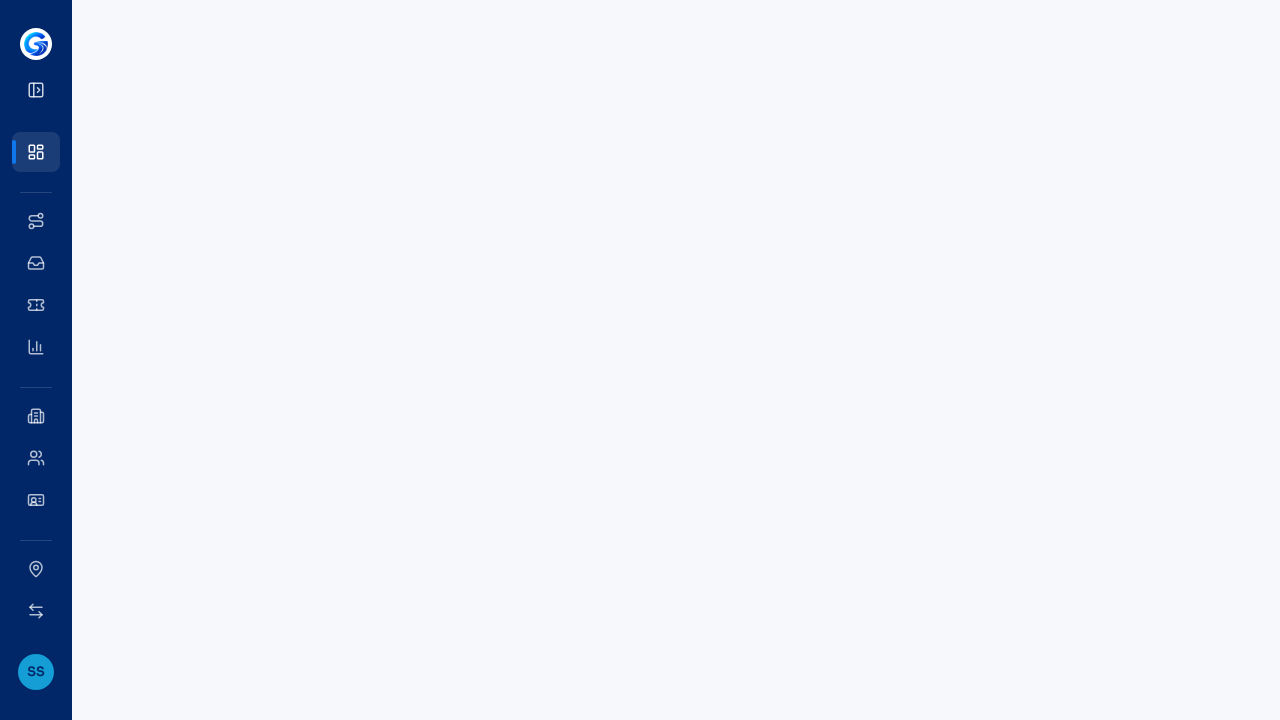
PortalShell: collapsing the sidebar › opens the account from the initials: name, role and Sign out
Later steps or results of the test are not shown.
Check: the text "SS" is shown, box [18,654,54,690]
Check: the text "Selam Staff" is not shown
Hover over the button named "Your account" at (36, 672), box [12,648,60,696]
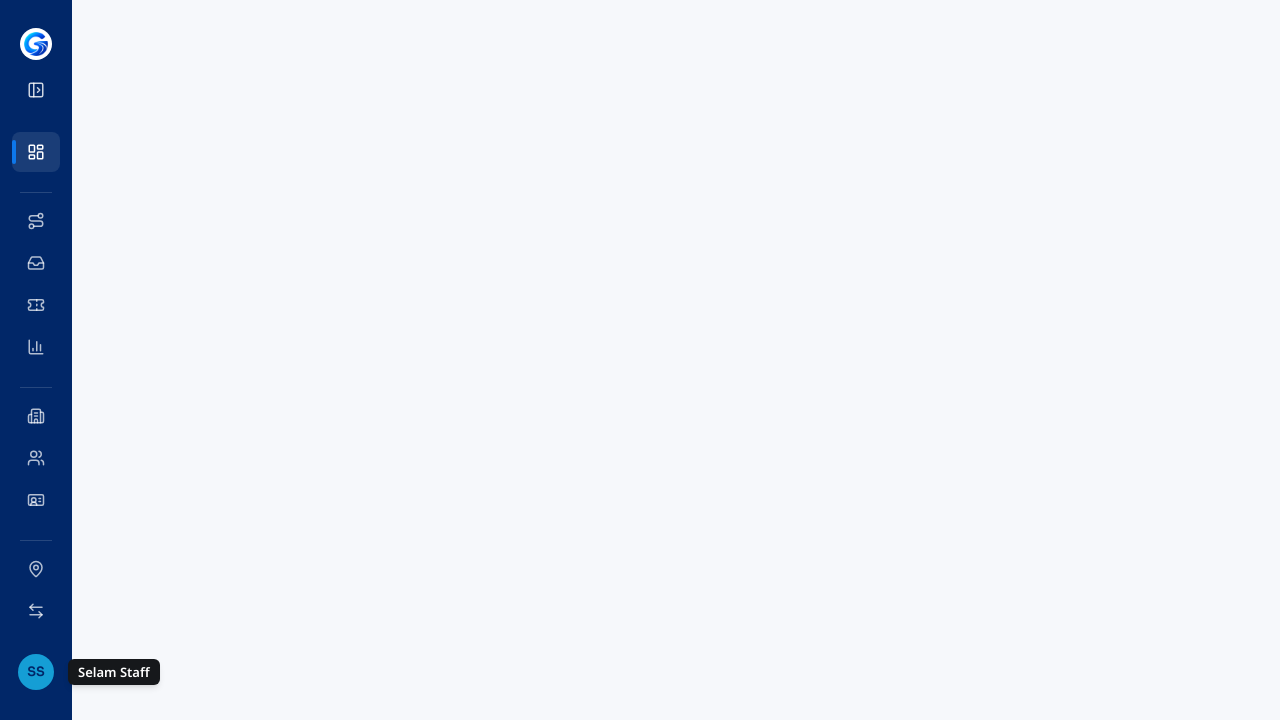
Check: the tooltip "Selam Staff" is shown, box [68,659,160,685]
Click the button named "Your account" at (36, 672), box [12,648,60,696]
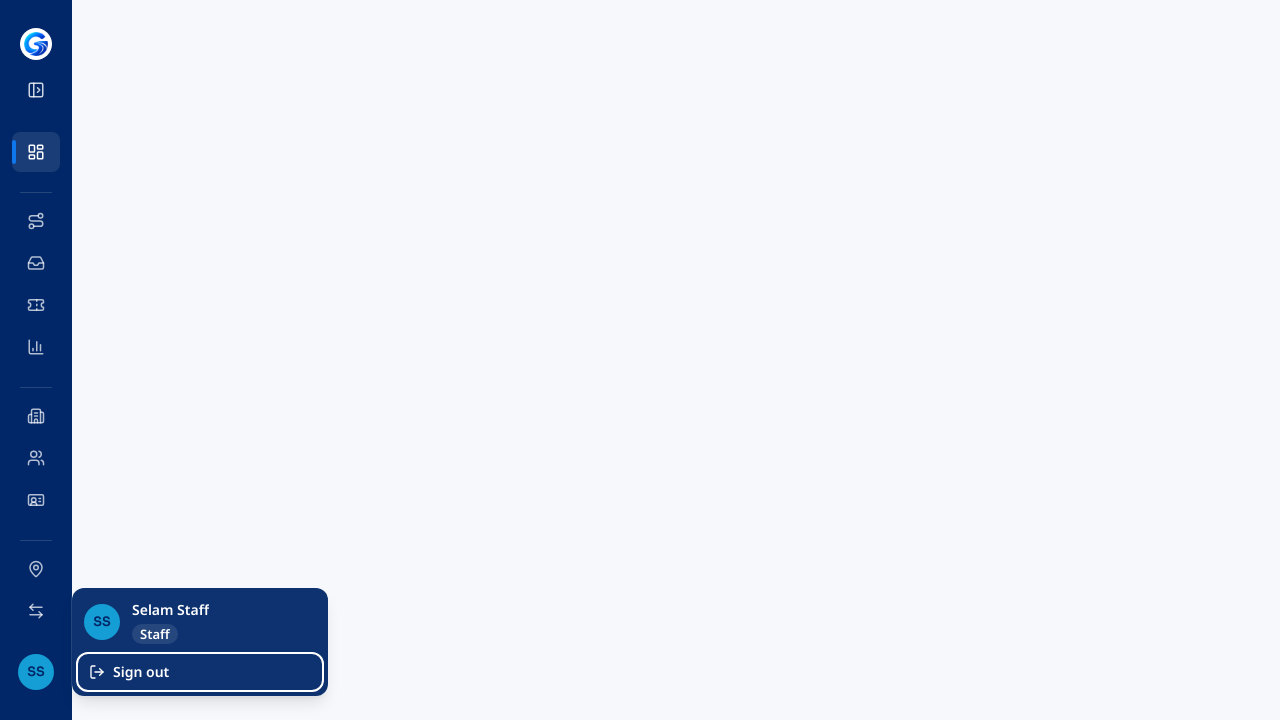
Check: the text "Selam Staff" is shown, box [132,600,209,620]
Check: the text "Staff" is shown, box [132,624,178,644]
